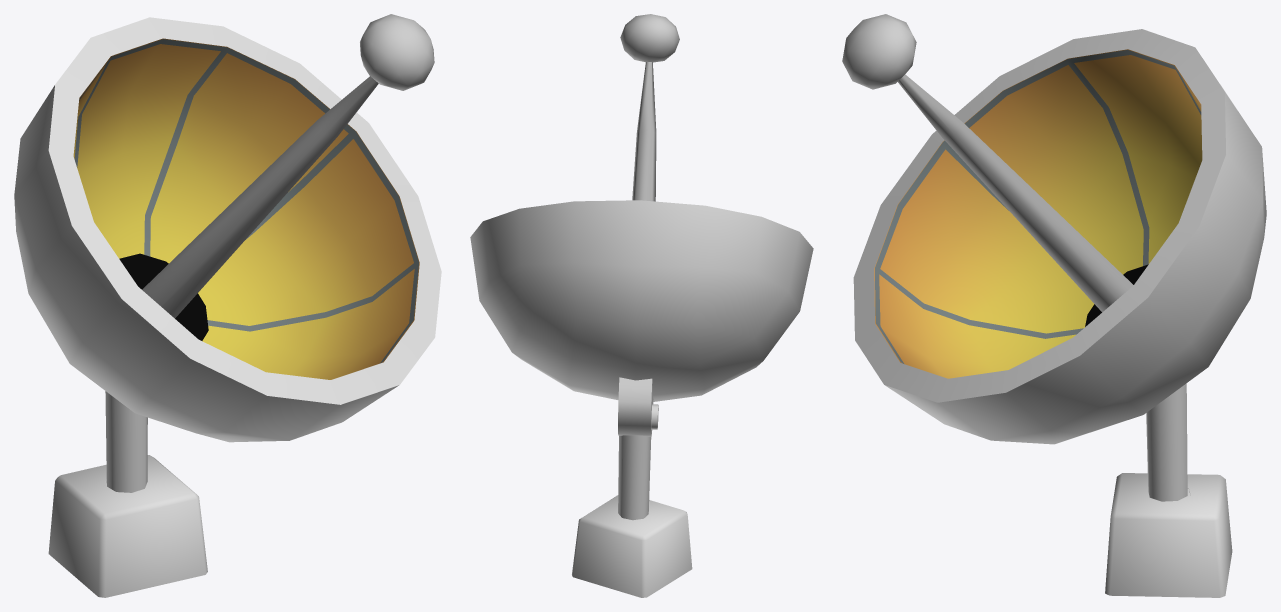
Rendered from herbertSateliteDish.glb.
3 views of the same model, side by side, from view 1: azimuth 30°, elevation 25°; view 2: azimuth 150°, elevation 25°; view 3: azimuth 270°, elevation 25° (orthographic). The views are drawn at different scales.
Parts seen in each view (by area): view 1: herbertSateliteDish; view 2: herbertSateliteDish; view 3: herbertSateliteDish.
Part boxes in pixels (left/top/right/bottom): herbertSateliteDish: left=14, top=14, right=441, bottom=597; herbertSateliteDish: left=470, top=14, right=813, bottom=597; herbertSateliteDish: left=842, top=14, right=1266, bottom=597.
Size of the model in its own units: 2.34 by 3.49 by 2.19.
